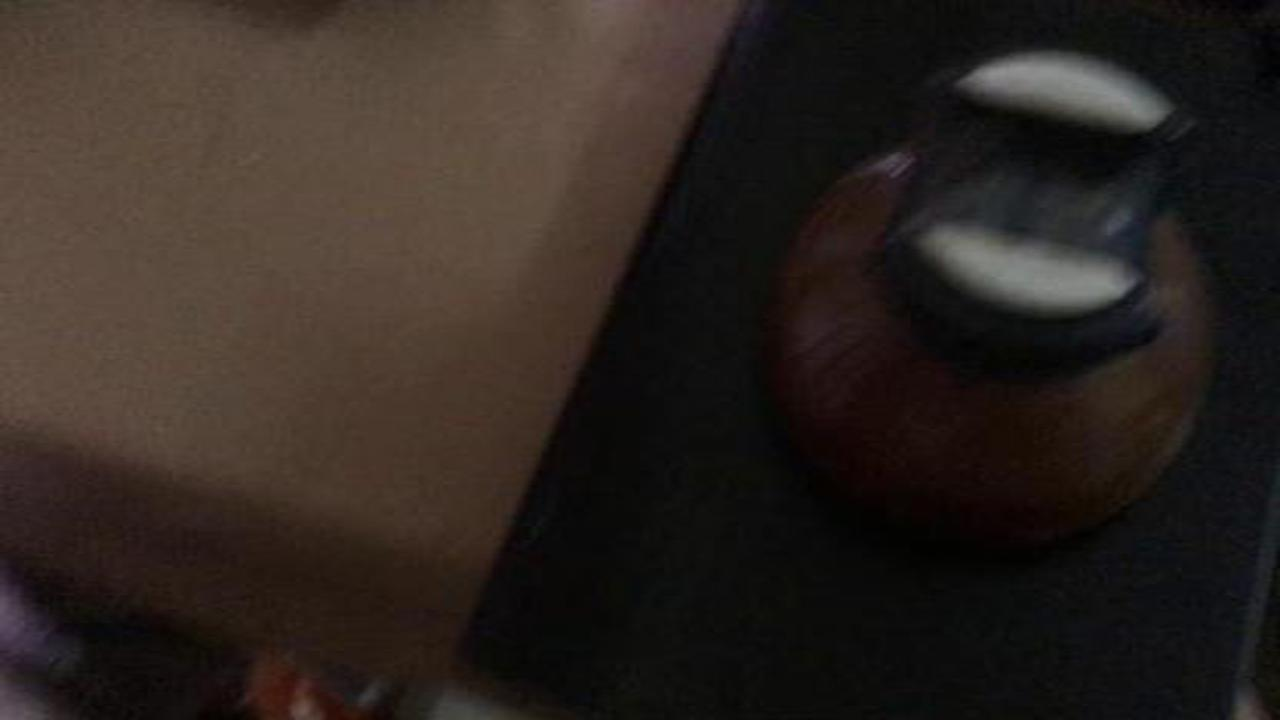insulator_pin: (745, 28, 1247, 570)
